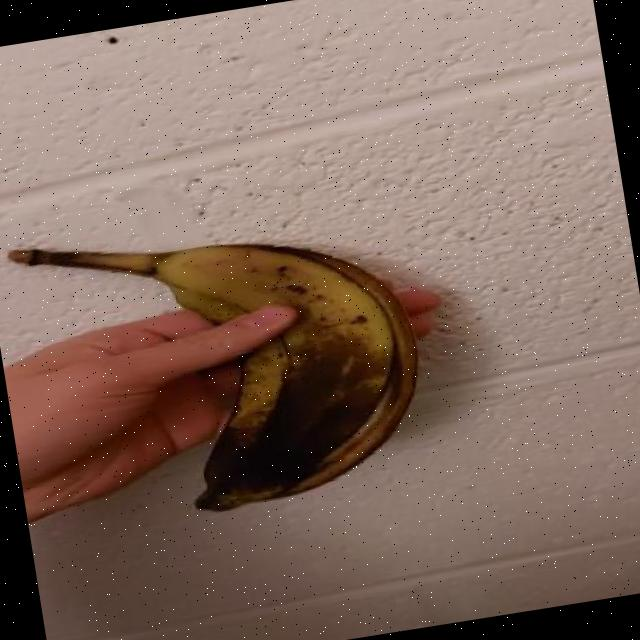banana-peel: (4, 184, 440, 539)
